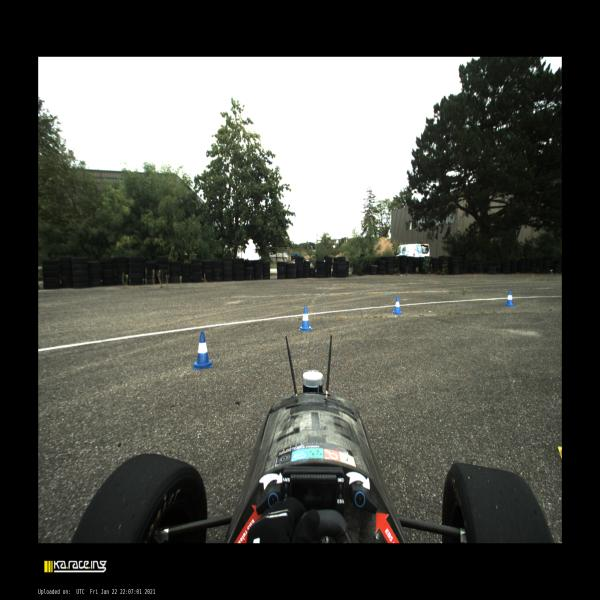blue_cone: (192, 332, 214, 369), (299, 307, 312, 331), (393, 296, 402, 314), (505, 290, 514, 306)
